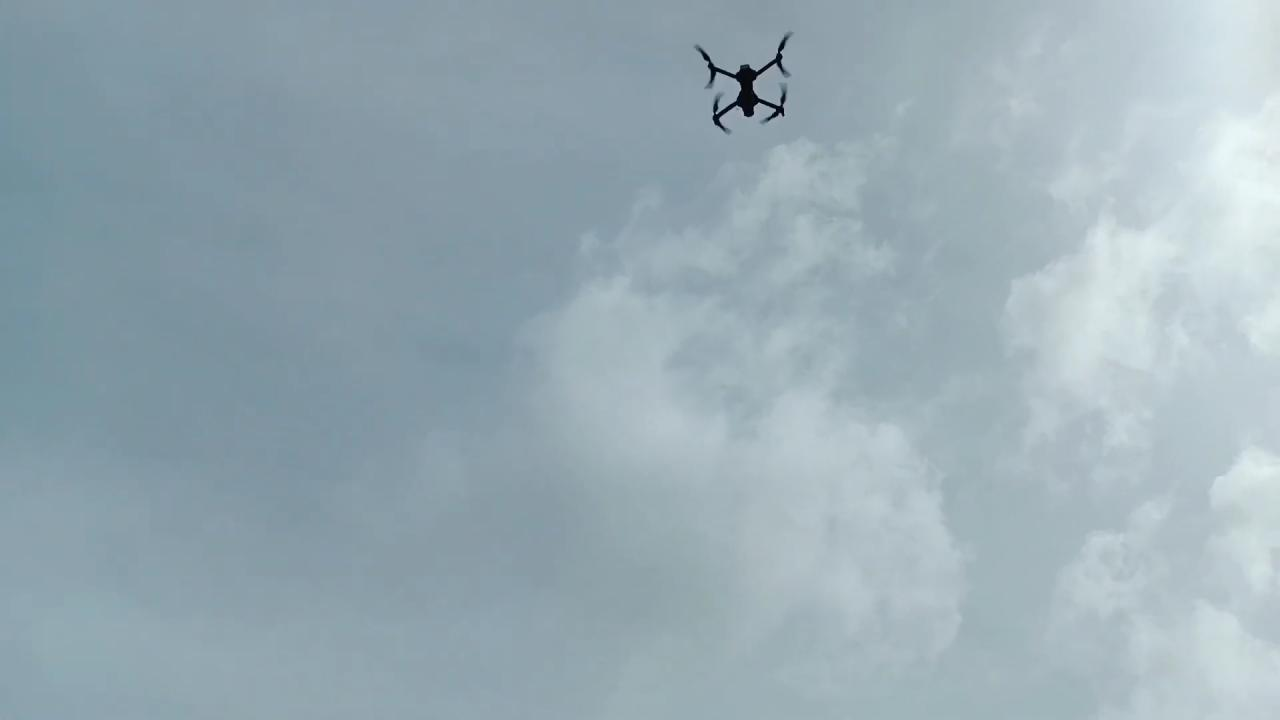Drone: (678, 21, 816, 144)
